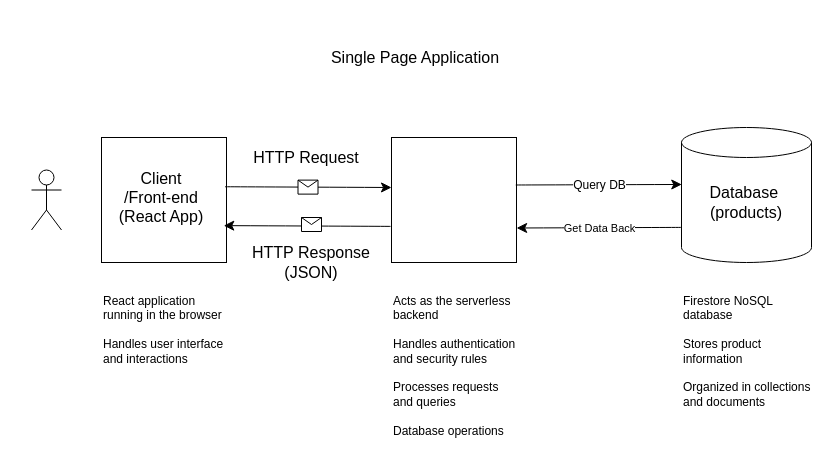
Image size: 829x474. Some labels were removed from this diagram. The centre of each missing label's shape, as x and y in pixels:
"serverless backend (Firebase/ Firestore)" goes at point (453, 199).
"User/Client" goes at point (46, 199).
